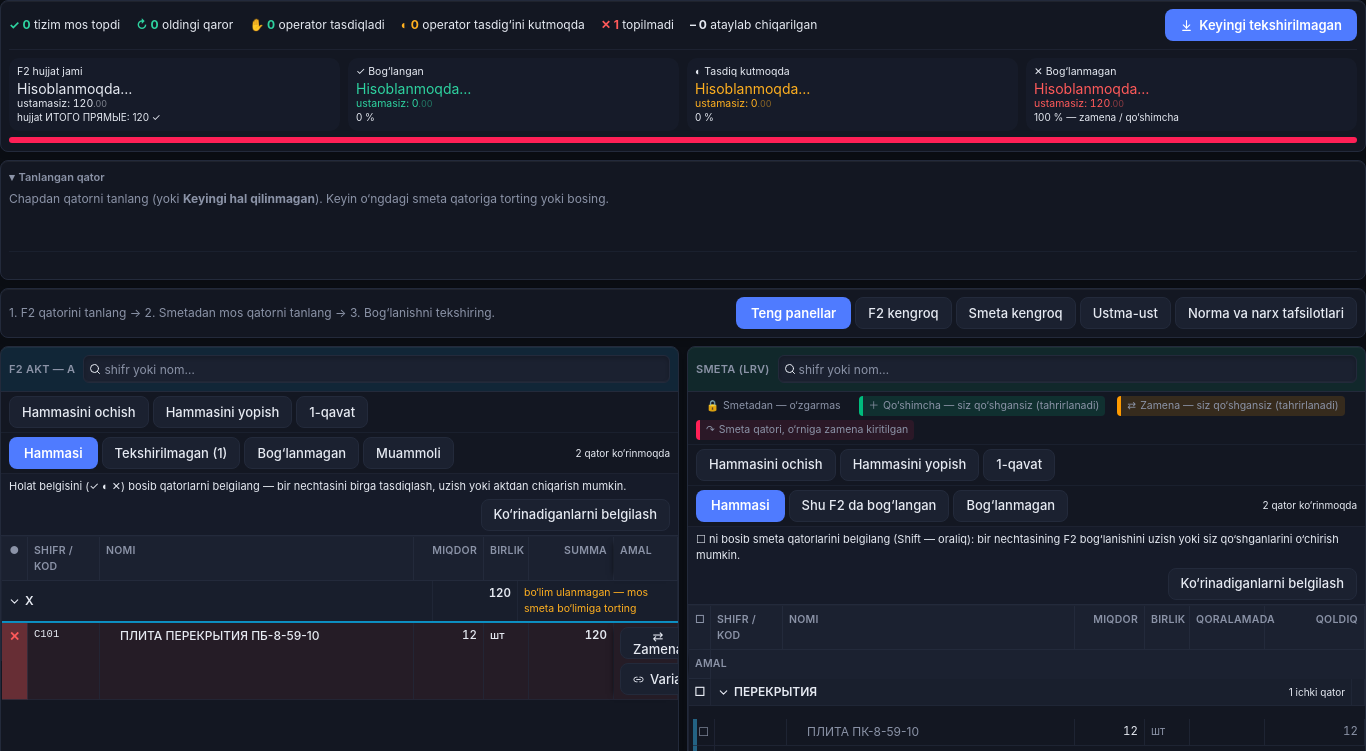
Test: F2 import — material zamenasi (resurssiz ish → smeta resursi) › «resurs o‘rniga ish» emas: bog‘lash va «Zamena material» taklif qilinadi
The width and height of the screenshot is (1366, 751).
Click the button "ПЛИТА ПЕРЕКРЫТИЯ ПБ-8-59-10" at (264, 636), box [120,627,407,645]
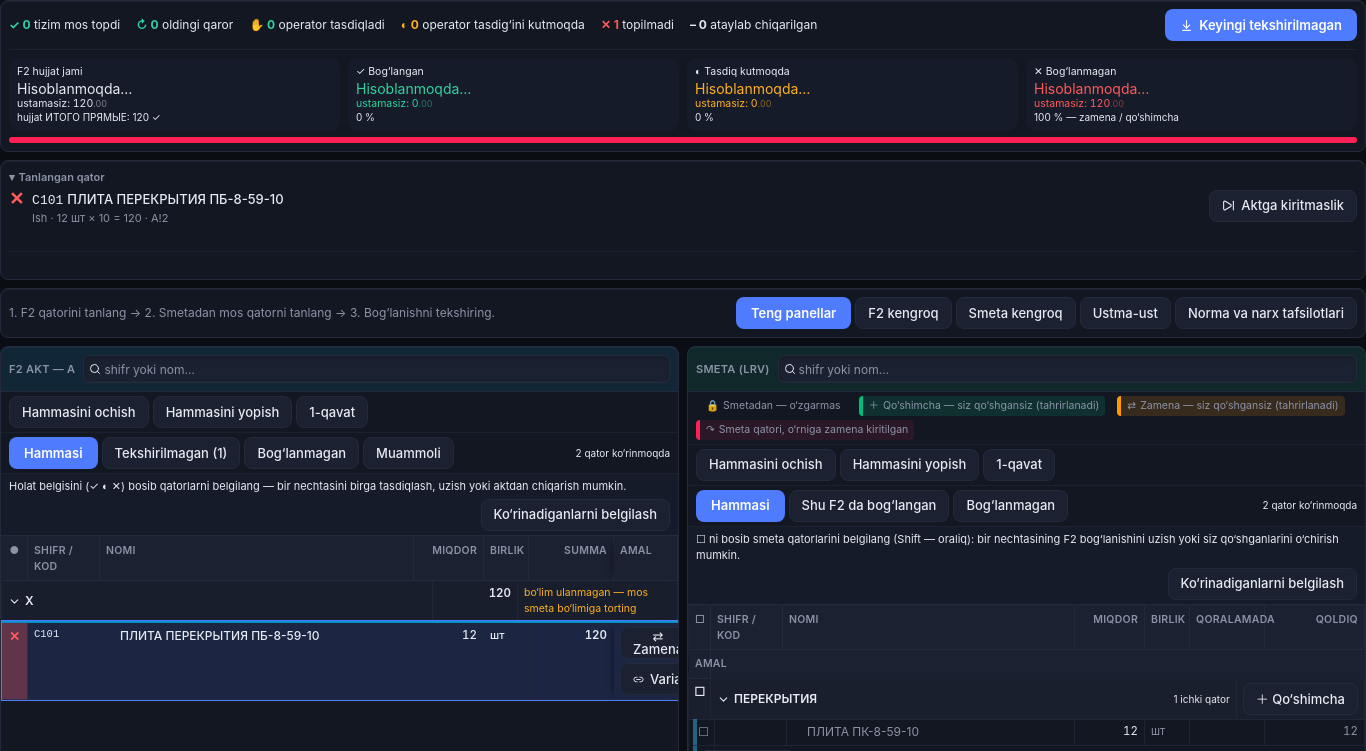
Click the button "ПЛИТА ПК-8-59-10" at (863, 732), box [807,723,1068,741]
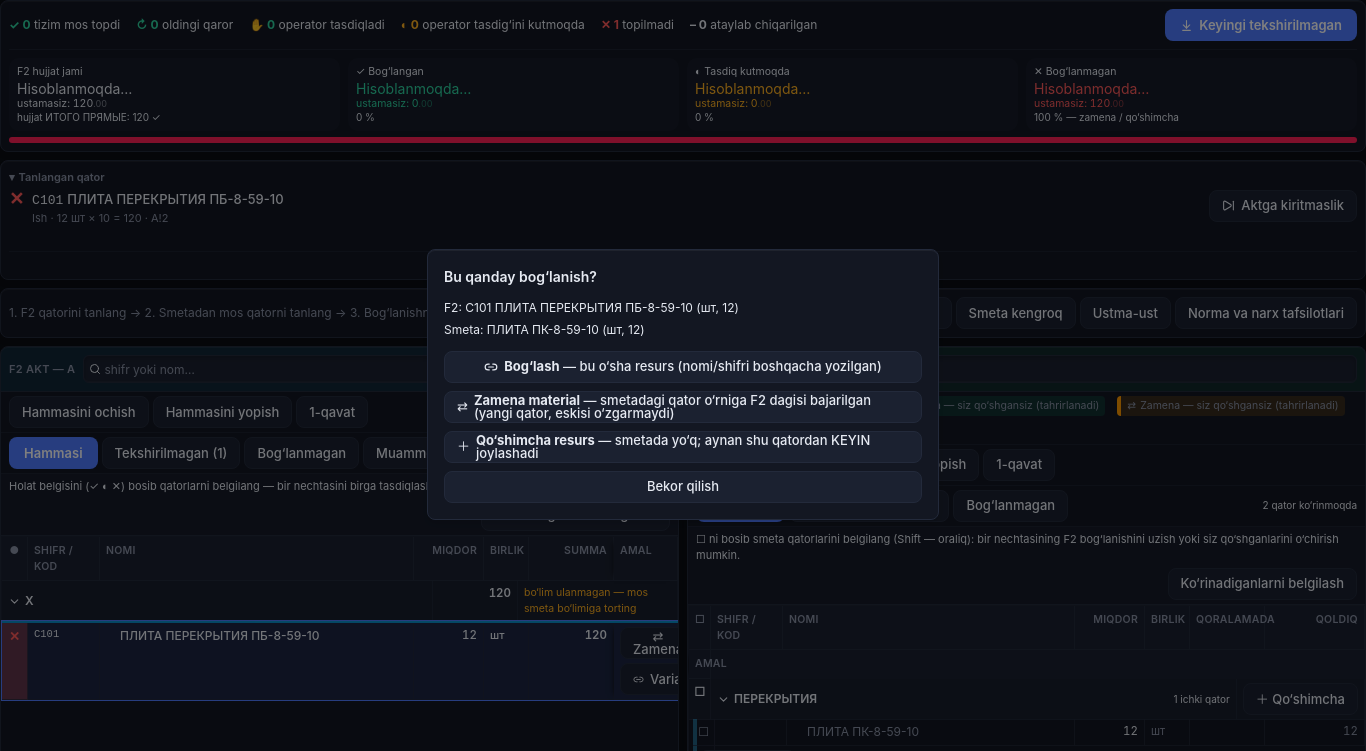
Now the dialog named "Bog‘lash turi" shows "Zamena material", box [444,390,922,422]
